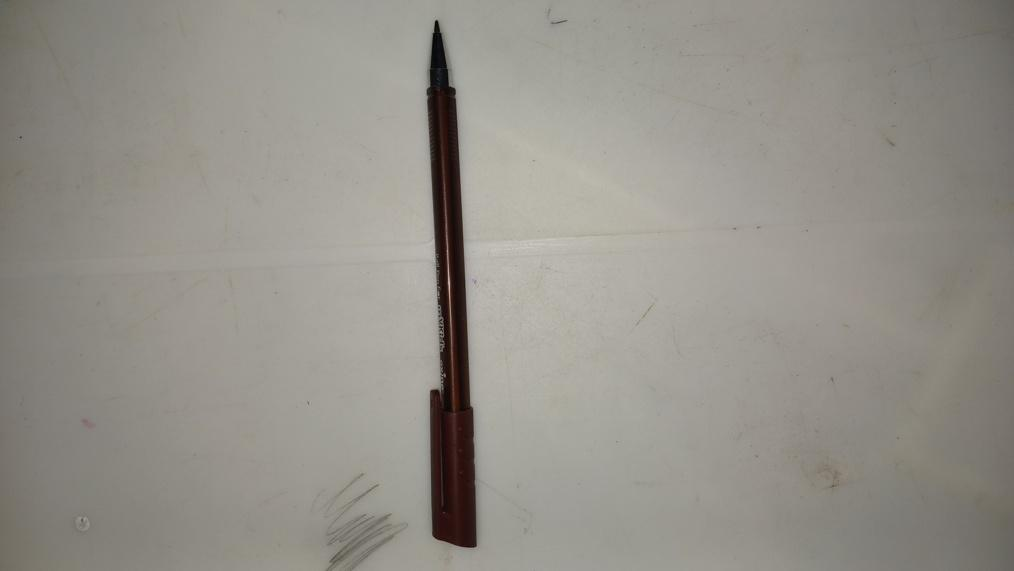pen: (428, 17, 473, 544)
